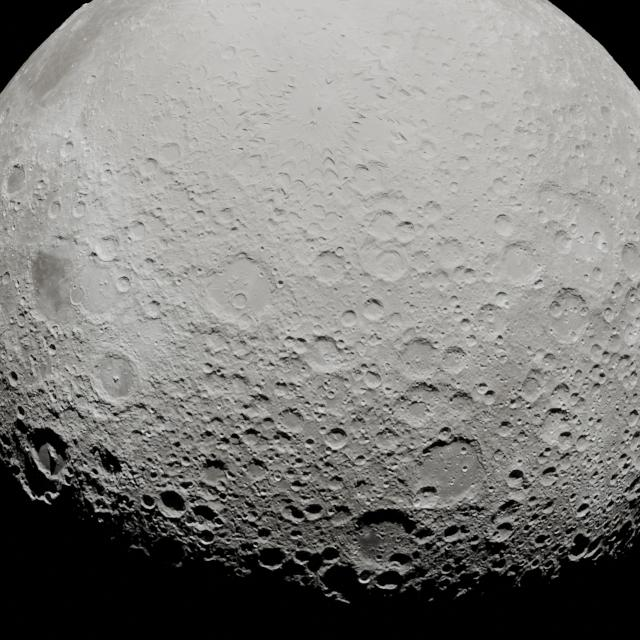crater: (542, 288, 594, 346), (25, 427, 72, 487), (494, 242, 543, 288), (357, 239, 408, 283), (394, 338, 442, 383), (94, 354, 138, 402), (305, 336, 351, 376), (536, 409, 577, 450), (428, 236, 470, 276), (317, 374, 357, 416), (309, 250, 349, 290), (320, 563, 364, 596), (148, 535, 192, 567), (364, 211, 404, 246), (538, 186, 574, 220), (355, 526, 389, 560), (155, 489, 187, 519), (440, 346, 471, 376), (201, 332, 234, 359), (94, 448, 124, 477), (618, 242, 640, 280), (386, 10, 418, 36), (255, 546, 287, 570), (360, 296, 389, 322), (446, 93, 476, 118), (476, 302, 504, 328), (5, 165, 28, 196), (36, 354, 58, 386), (93, 236, 120, 261), (276, 406, 304, 430), (200, 464, 228, 488), (492, 509, 520, 533), (156, 142, 182, 167), (520, 376, 544, 403), (192, 504, 220, 527), (373, 568, 402, 590), (323, 428, 349, 452), (207, 82, 234, 105), (373, 431, 402, 452), (554, 231, 578, 256), (492, 214, 516, 238), (482, 123, 506, 147), (421, 200, 443, 226), (227, 291, 253, 313), (568, 533, 591, 557), (281, 503, 308, 523), (244, 462, 268, 484), (491, 175, 514, 197), (212, 206, 236, 226), (415, 484, 439, 504), (361, 369, 383, 390), (461, 131, 483, 152), (142, 298, 163, 320), (505, 468, 527, 489), (489, 524, 513, 543), (622, 323, 640, 348), (353, 163, 374, 184), (126, 221, 146, 242), (418, 140, 438, 160), (274, 172, 294, 192), (339, 309, 358, 329), (282, 335, 302, 354), (287, 178, 308, 196), (238, 47, 260, 64), (612, 158, 628, 181), (606, 334, 624, 354), (68, 286, 86, 306), (59, 140, 76, 160), (538, 469, 558, 486), (47, 199, 63, 220), (492, 290, 510, 308), (247, 152, 265, 170), (474, 382, 494, 398), (622, 372, 638, 392), (323, 477, 343, 493), (196, 528, 216, 544), (488, 555, 508, 571), (454, 155, 472, 172), (140, 493, 158, 510), (574, 501, 591, 518), (71, 201, 87, 219), (220, 45, 238, 61), (480, 390, 498, 406), (591, 231, 605, 251), (599, 174, 613, 193), (115, 276, 131, 292), (608, 470, 624, 486), (322, 154, 338, 170), (496, 423, 513, 438), (458, 316, 473, 332), (548, 300, 563, 316), (256, 527, 273, 541), (626, 411, 639, 428), (522, 90, 537, 104), (7, 370, 20, 386), (352, 453, 368, 466), (437, 426, 452, 438), (447, 181, 460, 194), (15, 404, 27, 418), (397, 87, 412, 98), (590, 266, 602, 279), (324, 387, 337, 399), (600, 105, 612, 118), (1, 271, 11, 286), (147, 468, 159, 480), (526, 152, 538, 164), (492, 449, 504, 461), (376, 90, 390, 100), (47, 341, 58, 353), (85, 72, 96, 84), (16, 315, 26, 327), (12, 200, 22, 212), (50, 324, 60, 335), (272, 473, 283, 483), (459, 444, 469, 454), (325, 75, 335, 85), (460, 464, 469, 473), (12, 122, 20, 132), (276, 279, 284, 288), (4, 106, 10, 116), (316, 105, 323, 111), (11, 224, 16, 232), (72, 284, 77, 290)
rock: (466, 443, 493, 501), (398, 379, 444, 412), (447, 388, 477, 422), (615, 521, 636, 548), (1, 434, 12, 451), (395, 131, 409, 143), (12, 164, 23, 172)
